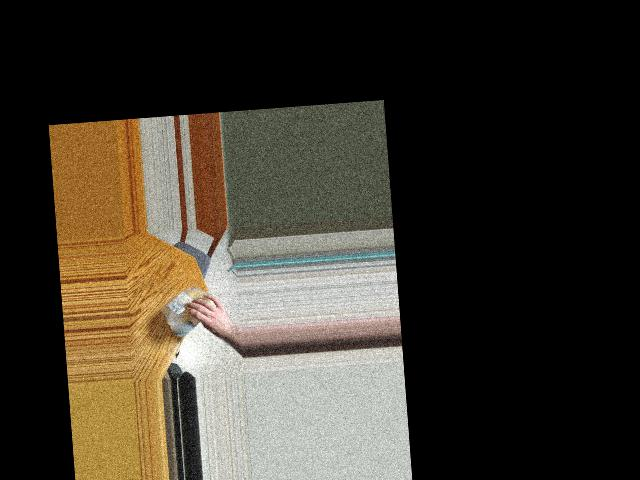cheese: (158, 281, 220, 331)
